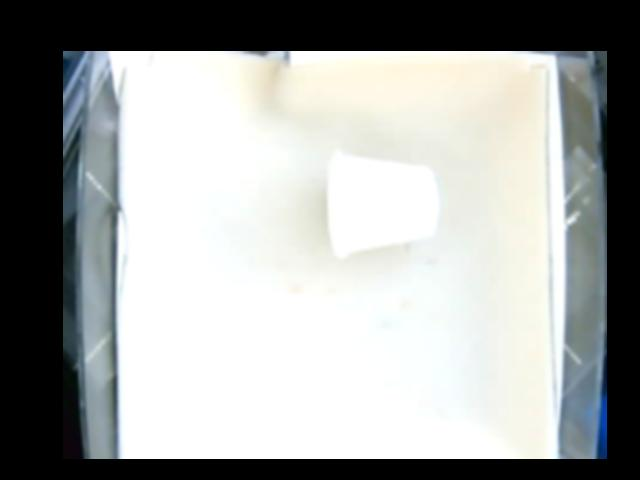Cup: (327, 151, 438, 256)
